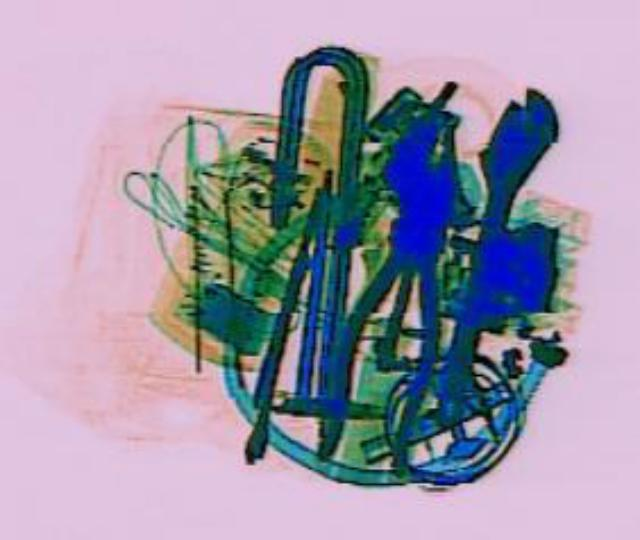Pliers: (303, 112, 489, 474)
Wrench: (412, 79, 564, 421)
